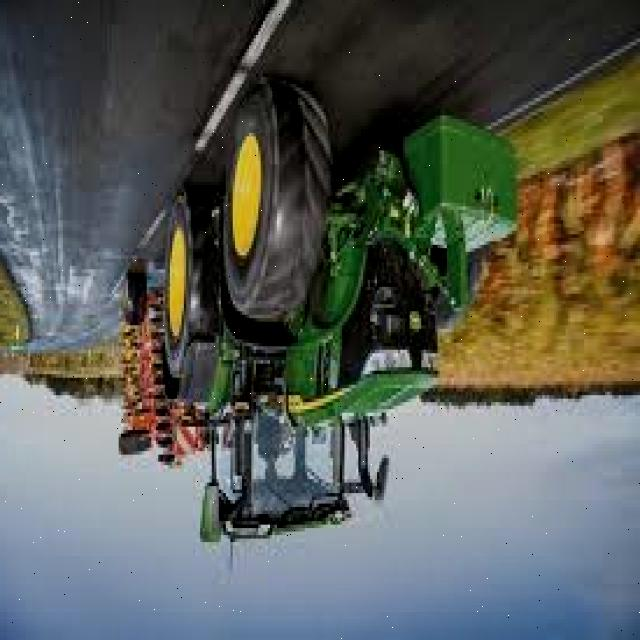Tratores - v5 YOLO V8L 2024-11-13: (161, 75, 488, 544)
